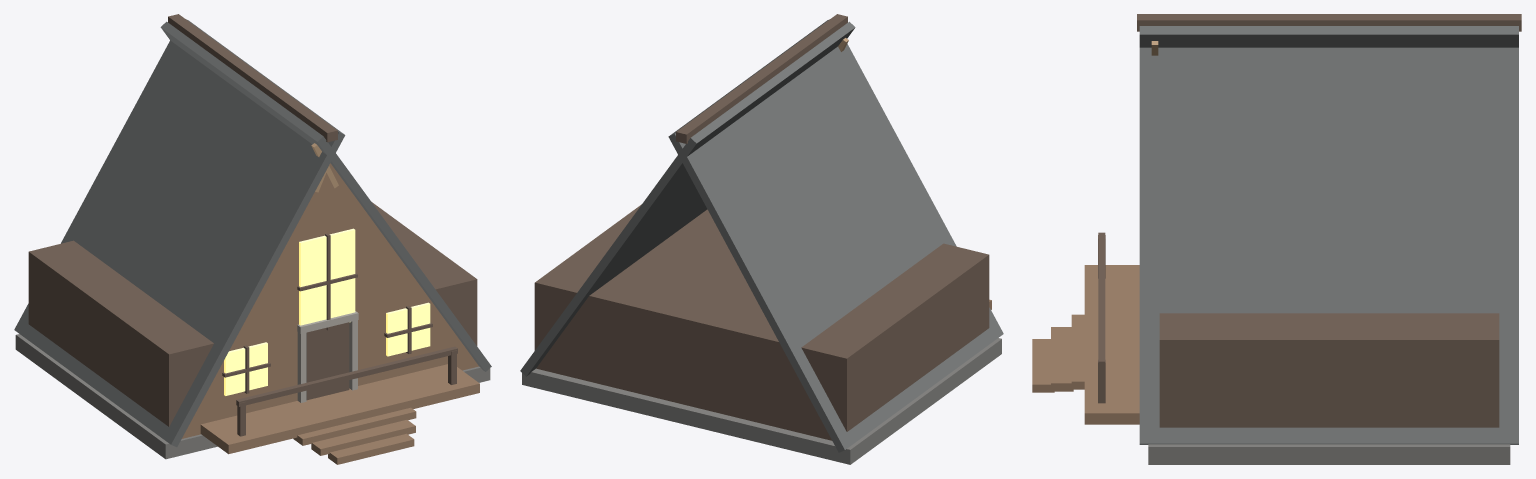
File: Midgard_Hunter_House_V1_YUP.glb
The picture shows the model from 3 angles, left to right: view 1: azimuth 30°, elevation 25°; view 2: azimuth 150°, elevation 25°; view 3: azimuth 270°, elevation 25°; orthographic projection. The views are drawn at different scales.
Visible parts, largest first — view 1: Hunter_AFrame_L, Hunter_Base, Hunter_Front_Gable, Hunter_Porch, Hunter_AFrame_R, Hunter_Center_Window_Glow, Hunter_Foundation, Hunter_AFrame_Ridge, Hunter_Door, Hunter_Rail, Hunter_Window_R_Glow, Hunter_Window_L_Glow (+6 smaller); view 2: Hunter_Base, Hunter_AFrame_L, Hunter_AFrame_R, Hunter_Foundation, Hunter_AFrame_Ridge; view 3: Hunter_AFrame_R, Hunter_Base, Hunter_AFrame_L, Hunter_Porch, Hunter_Foundation, Hunter_AFrame_Ridge, Hunter_Step1, Hunter_Rail, Hunter_Step0, Hunter_Step2.
Boxes of the visible parts, x1,y1,x2,y2 form: Hunter_AFrame_L: (14, 19, 345, 447); Hunter_Base: (28, 202, 477, 426); Hunter_Front_Gable: (182, 163, 478, 438); Hunter_Porch: (200, 364, 479, 454); Hunter_AFrame_R: (160, 21, 491, 371); Hunter_Center_Window_Glow: (299, 228, 355, 325); Hunter_Foundation: (15, 334, 490, 459); Hunter_AFrame_Ridge: (168, 14, 337, 142); Hunter_Door: (306, 322, 349, 400); Hunter_Rail: (236, 346, 457, 406); Hunter_Window_R_Glow: (386, 302, 430, 356); Hunter_Window_L_Glow: (224, 342, 267, 395); Hunter_Base: (534, 204, 989, 440); Hunter_AFrame_L: (668, 19, 1003, 452); Hunter_AFrame_R: (520, 21, 855, 376); Hunter_Foundation: (522, 338, 1001, 464); Hunter_AFrame_Ridge: (676, 14, 847, 143); Hunter_AFrame_R: (1139, 47, 1518, 444); Hunter_Base: (1159, 313, 1499, 427); Hunter_AFrame_L: (1139, 26, 1518, 47); Hunter_Porch: (1084, 265, 1139, 424); Hunter_Foundation: (1148, 444, 1510, 464); Hunter_AFrame_Ridge: (1137, 14, 1521, 31); Hunter_Step1: (1051, 327, 1073, 391); Hunter_Rail: (1098, 232, 1105, 367); Hunter_Step0: (1071, 314, 1084, 389); Hunter_Step2: (1032, 339, 1054, 392).
Size of the model in its own units: 8 by 6.88 by 8.65.
